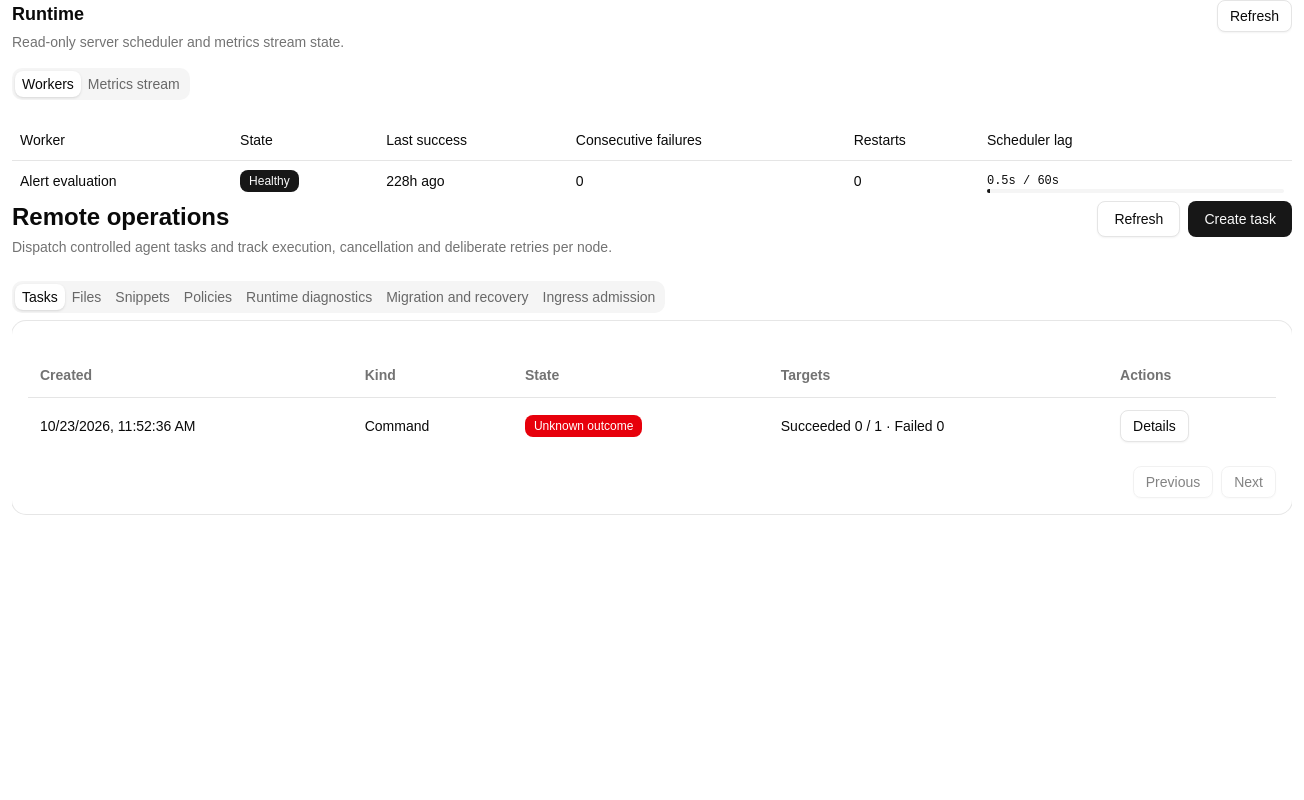
preserves removed-node history without offering an impossible retry
The image size is (1304, 800).
Click the button "Details" at coordinates (1154, 426), box [1120,410,1189,442]
(page scrolled)
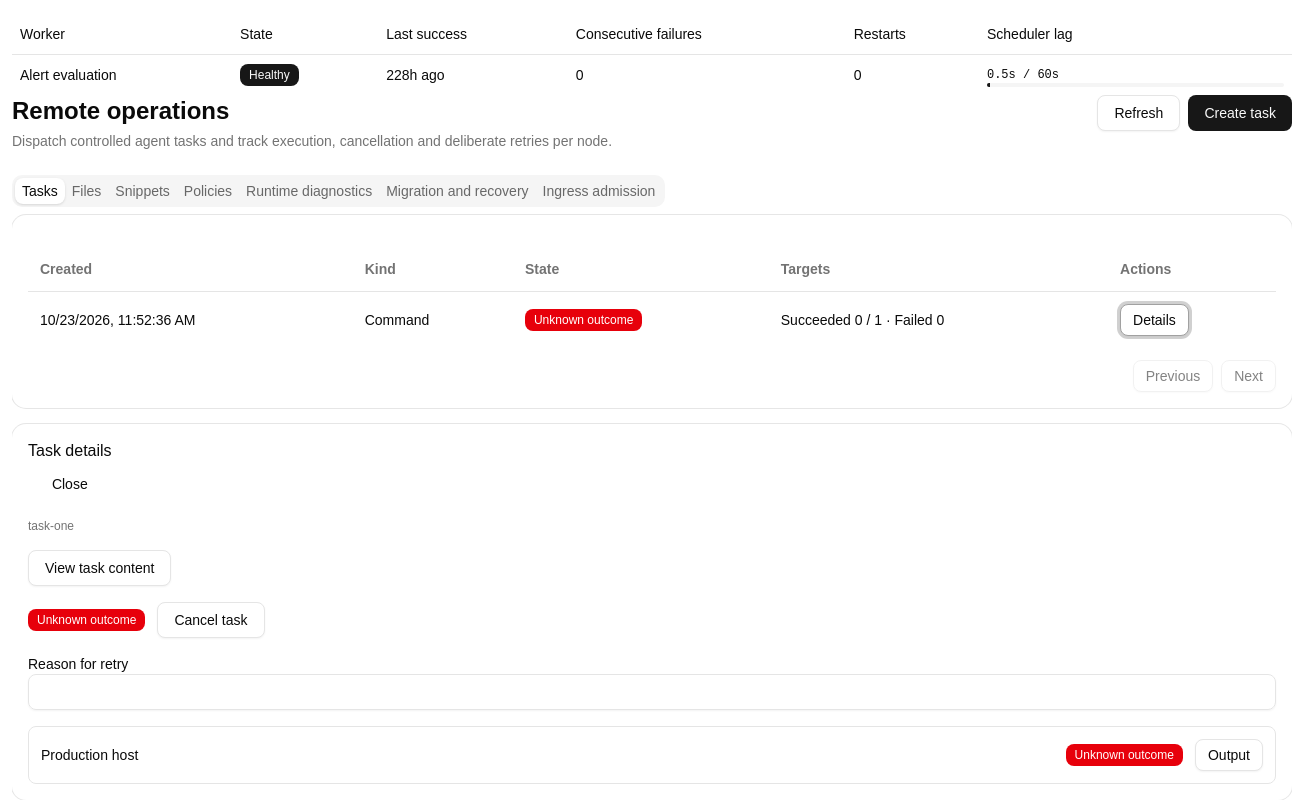
Expected: the field labelled "Reason for retry" is shown, [28,674,1276,710]
Expected: the button "Output" is shown, [1195,738,1263,770]
